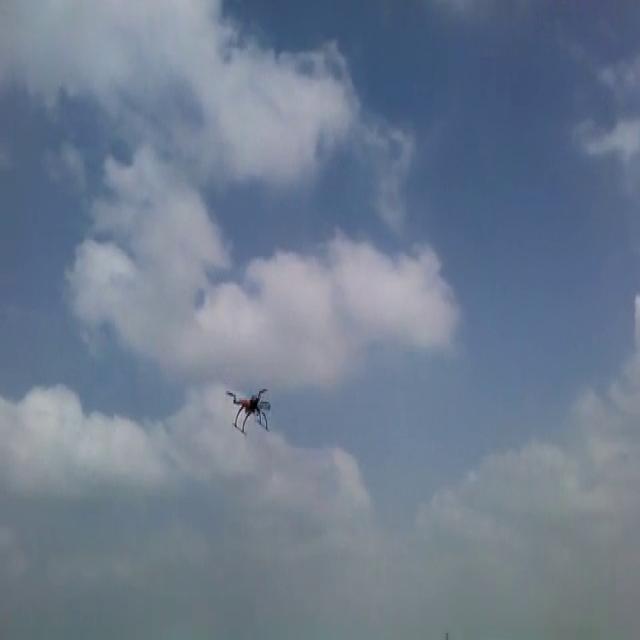drone: (225, 382, 271, 434)
